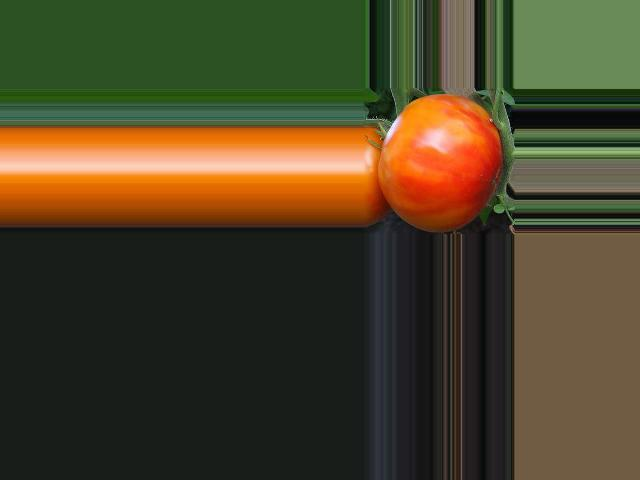tomato: (379, 94, 501, 232)
